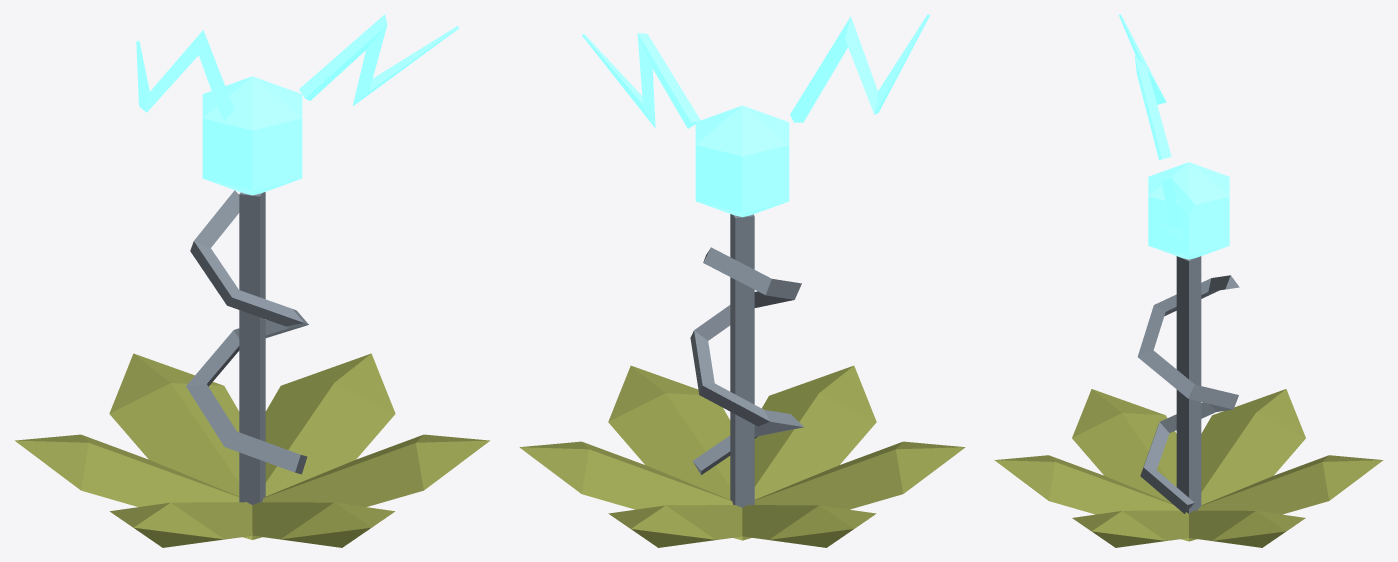
File: Veg_ZapBloom_B.fbx
The picture shows the model from 3 angles, left to right: view 1: azimuth 30°, elevation 25°; view 2: azimuth 150°, elevation 25°; view 3: azimuth 270°, elevation 25°; orthographic projection. The views are drawn at different scales.
Visible parts, largest first — view 1: Veg_ZapBloom_B_Body, Veg_ZapBloom_B_Orb; view 2: Veg_ZapBloom_B_Body, Veg_ZapBloom_B_Orb; view 3: Veg_ZapBloom_B_Body, Veg_ZapBloom_B_Orb.
Boxes of the visible parts, x1,y1,x2,y2 form: Veg_ZapBloom_B_Body: [15, 190, 489, 547]; Veg_ZapBloom_B_Orb: [136, 14, 458, 195]; Veg_ZapBloom_B_Body: [519, 214, 965, 547]; Veg_ZapBloom_B_Orb: [582, 14, 929, 217]; Veg_ZapBloom_B_Body: [994, 256, 1383, 547]; Veg_ZapBloom_B_Orb: [1119, 14, 1229, 259].
Bounding box in the file's own units: 0.7035 × 1.03 × 0.7893.
